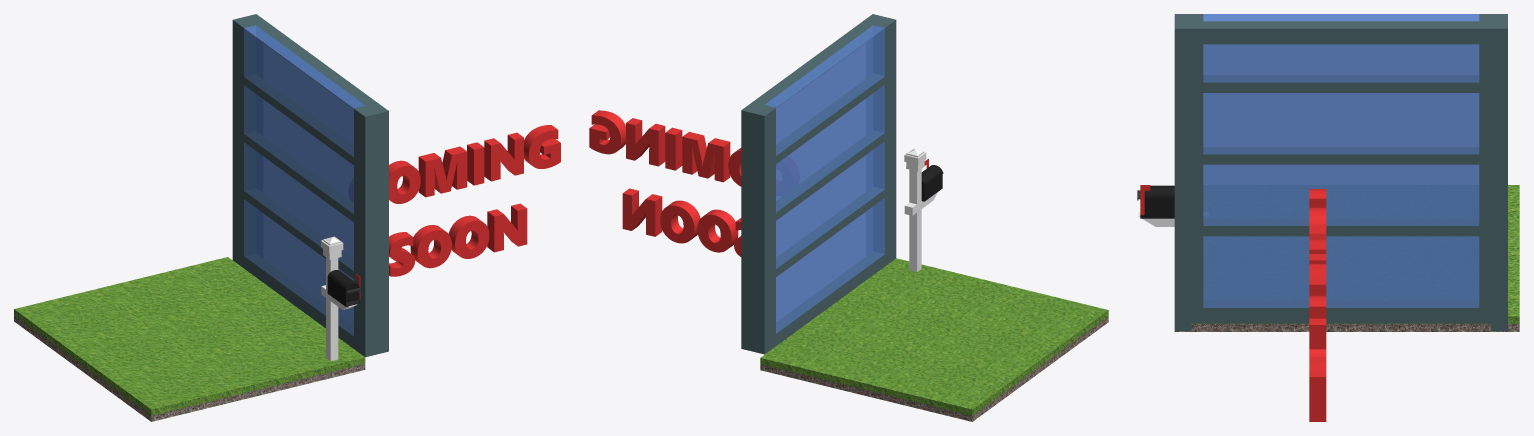
File: maxtower_03.dae
3 renders of one model, left to right at view 1: azimuth 30°, elevation 25°; view 2: azimuth 150°, elevation 25°; view 3: azimuth 270°, elevation 25°, orthographic. The views are drawn at different scales.
Parts seen in each view (by area): view 1: group_5 (×7), group_11, group_4 (×4), group_2, COMING_SOON_1 (×9), group_12, group_7, group_10; view 2: group_5 (×7), group_11, group_4 (×4), group_2, COMING_SOON_1 (×7), group_12, group_7, group_10; view 3: group_5 (×7), group_4 (×4), group_2, COMING_SOON_1 (×4), group_12, group_11, group_10.
Boxes of the visible parts, box(x1,y1,x2,y2) form: group_5 (×7): box(244, 25, 365, 336); group_11: box(14, 257, 365, 415); group_4 (×4): box(239, 22, 369, 351); group_2: box(232, 14, 388, 357); COMING_SOON_1 (×9): box(389, 125, 560, 276); group_12: box(14, 315, 365, 421); group_7: box(321, 240, 356, 361); group_10: box(327, 270, 359, 306); group_5 (×7): box(764, 25, 884, 333); group_11: box(760, 258, 1108, 415); group_4 (×4): box(760, 22, 889, 348); group_2: box(741, 14, 896, 354); COMING_SOON_1 (×7): box(589, 110, 738, 252); group_12: box(760, 316, 1108, 421); group_7: box(904, 152, 937, 271); group_10: box(921, 165, 942, 201); group_5 (×7): box(1203, 14, 1479, 307); group_4 (×4): box(1191, 14, 1490, 323); group_2: box(1174, 14, 1507, 330); COMING_SOON_1 (×4): box(1309, 224, 1326, 421); group_12: box(1174, 324, 1519, 331); group_11: box(1192, 185, 1519, 323); group_10: box(1140, 185, 1174, 218).
Size of the model in its own units: 234 by 133 by 122.
Materials: 9 (3 with a texture image).
